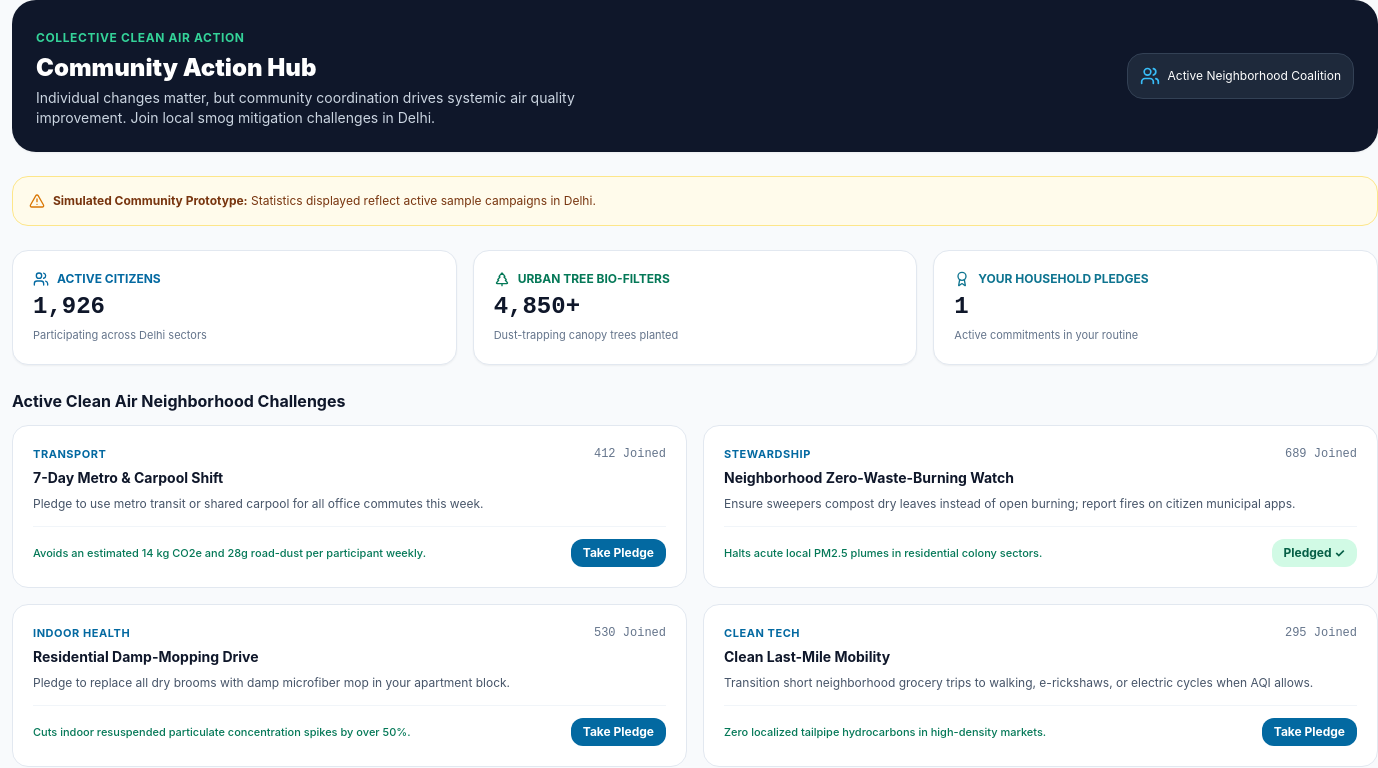
CommunityHubView › toggles challenge pledges and updates participation totals
The width and height of the screenshot is (1378, 768).
Expected: the text "1" is shown, left=954, top=293, right=969, bottom=320
Click the button "Take Pledge" below "412" at (618, 552), box left=571, top=538, right=666, bottom=566
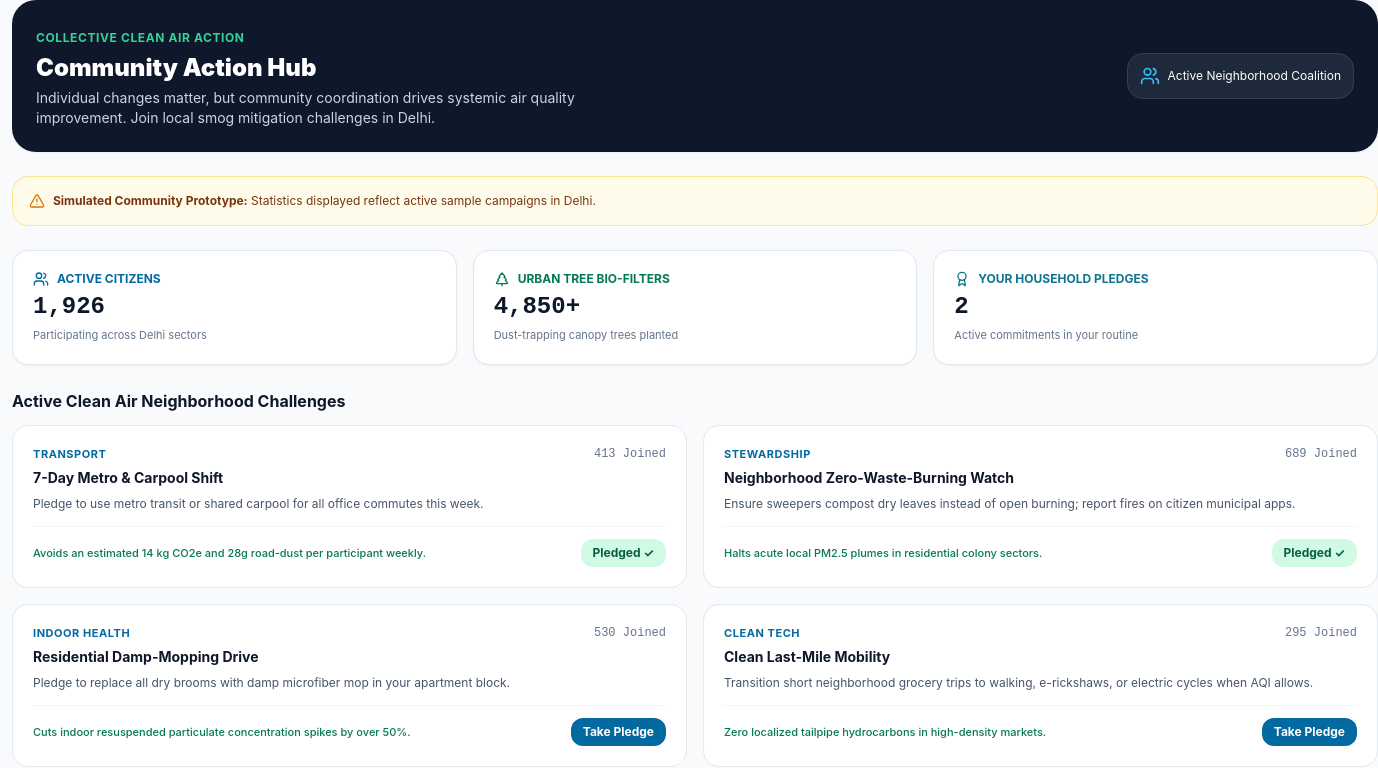
Expected: the text "2" is shown, left=954, top=293, right=969, bottom=320
Click the button "Pledged ✓" below "413" at (623, 552), box left=580, top=538, right=666, bottom=566
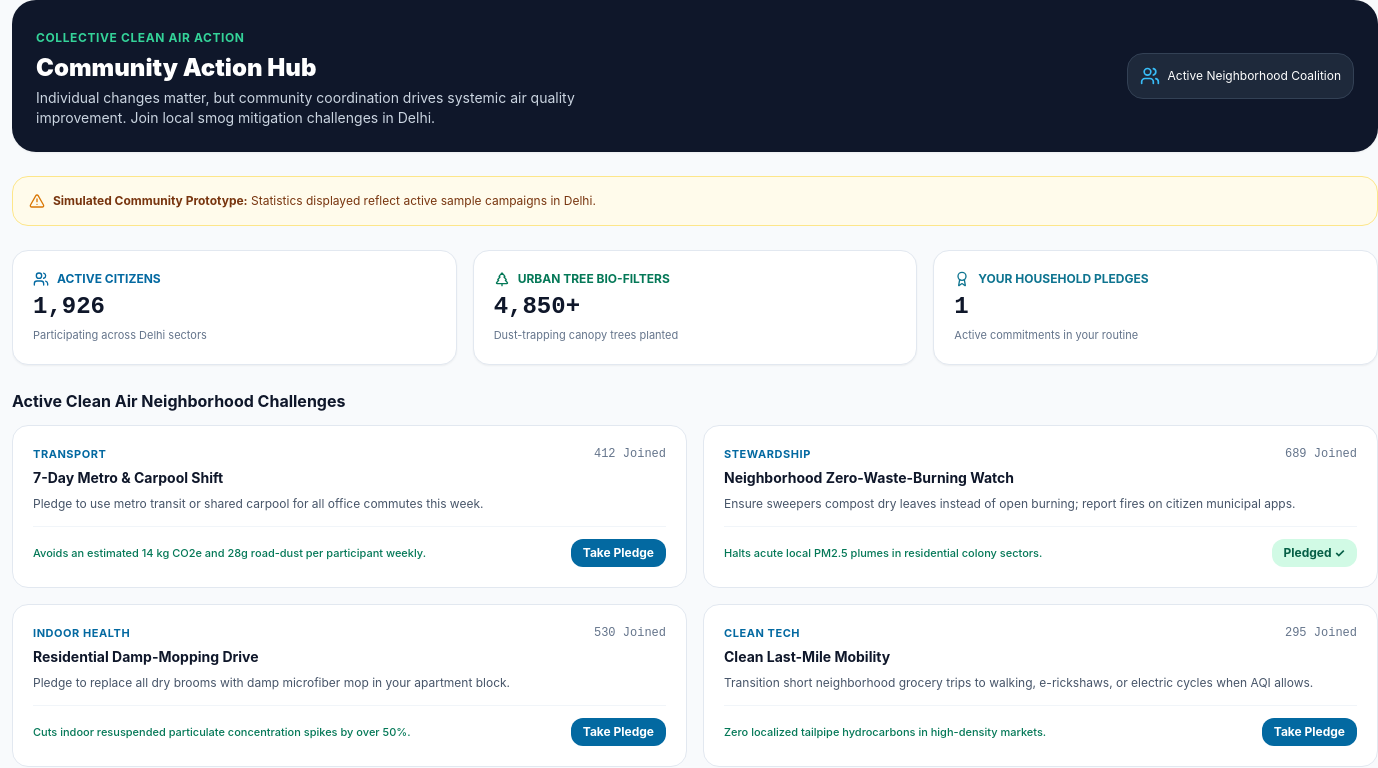
Expected: the text "1" is shown, left=954, top=293, right=969, bottom=320
